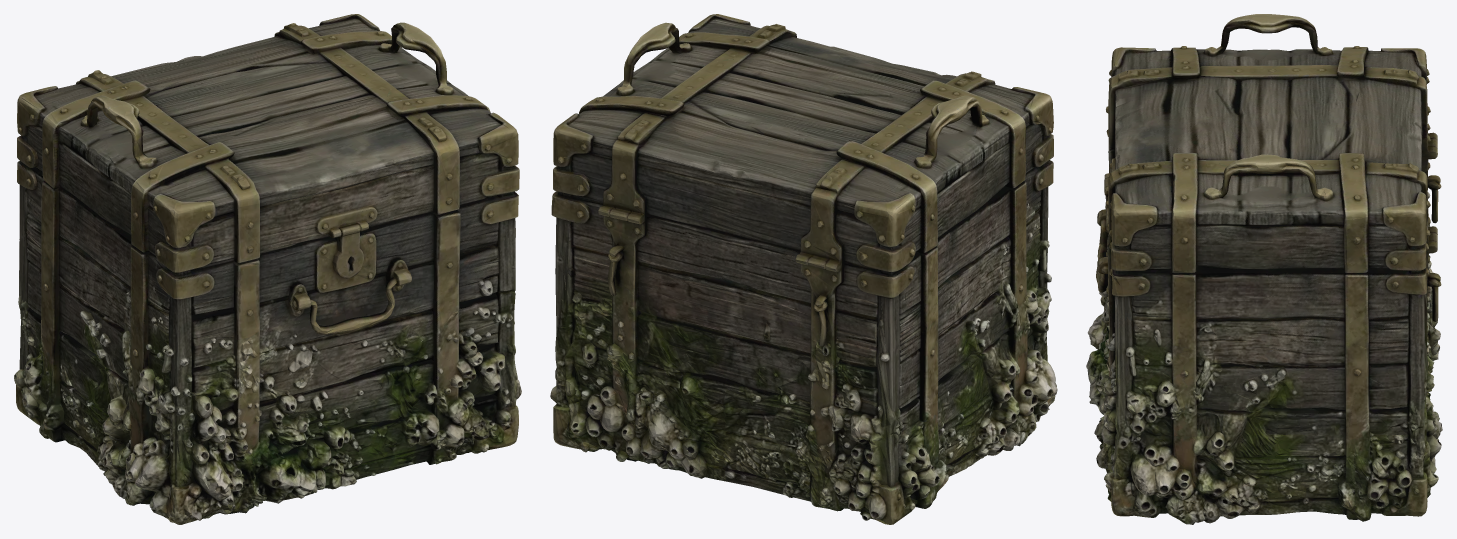
File: chest.glb
3 views of the same model, side by side, from view 1: azimuth 30°, elevation 25°; view 2: azimuth 150°, elevation 25°; view 3: azimuth 270°, elevation 25° (orthographic). The views are drawn at different scales.
Parts seen in each view (by area): view 1: geometry_0; view 2: geometry_0; view 3: geometry_0.
Boxes of the visible parts, <box> form: geometry_0: <box>14,14,521,524</box>; geometry_0: <box>550,14,1057,524</box>; geometry_0: <box>1086,14,1442,524</box>.
Bounding box in the file's own units: 0.9988 × 0.9085 × 0.8237.
1 material, 1 textured.
